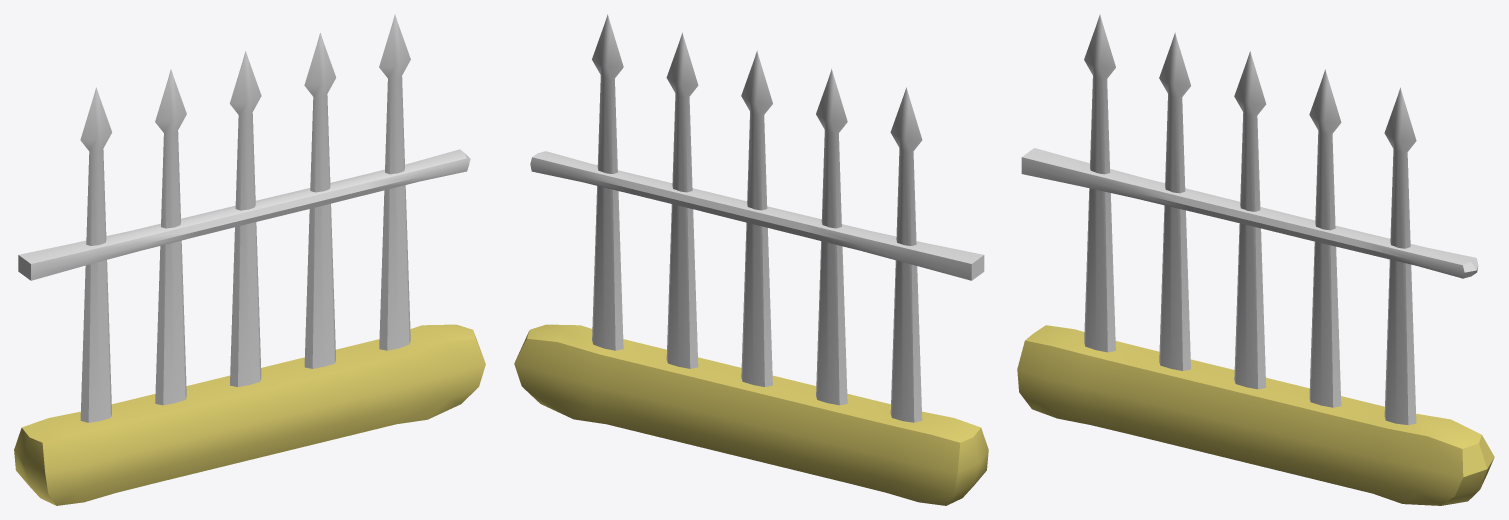
File: Fence.fbx
3 renders of one model, left to right at view 1: azimuth 30°, elevation 25°; view 2: azimuth 150°, elevation 25°; view 3: azimuth 330°, elevation 25°, orthographic.
Visible parts, largest first — view 1: Fence; view 2: Fence; view 3: Fence.
Boxes of the visible parts, left/top/right/bottom form: Fence: left=14, top=14, right=485, bottom=505; Fence: left=514, top=14, right=988, bottom=505; Fence: left=1017, top=14, right=1494, bottom=505.
Bounding box in the file's own units: 1228 × 1031 × 167.
